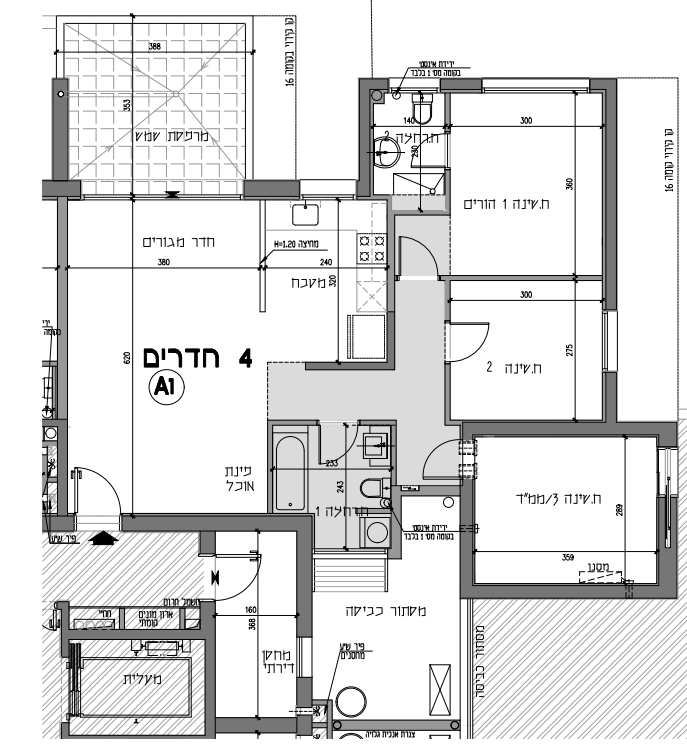window: (479, 76, 589, 95), (298, 178, 358, 202), (599, 308, 619, 373), (295, 637, 313, 679)
